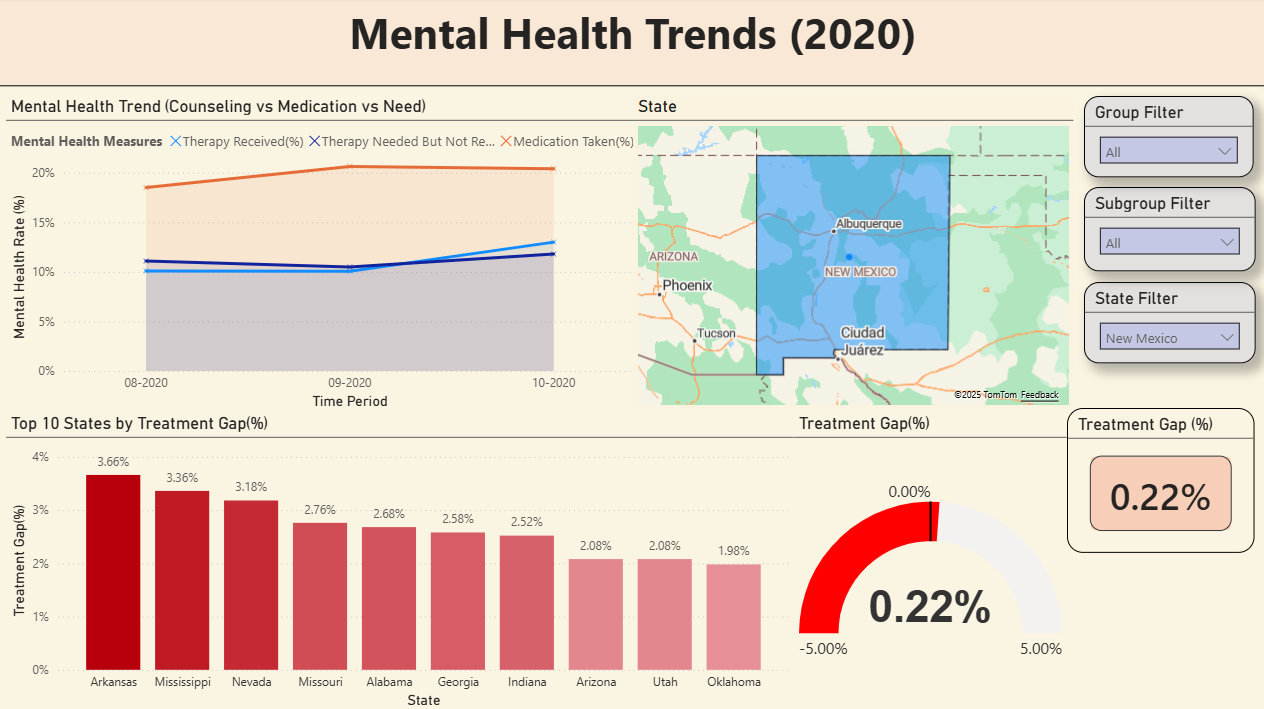

The dashboard page shown, as its layout file describes it:
{"tool":"powerbi","page":{"name":"Page 1","canvas":[1280,720],"ordinal":0},"visuals":[{"type":"lineChart","title":"Mental Health Trend (Counseling vs Medication vs Need)","fields":{"Category":["Calendar.YearMonth"],"Y":["Mental_Health_Care_in_the_Last_4_Weeks.TherapyReceived%","Mental_Health_Care_in_the_Last_4_Weeks.TherapyNeededButNotReceived%","Mental_Health_Care_in_the_Last_4_Weeks.MedicationTaken%"]},"box":[10.5,99.9,629.5,319.4],"z":0},{"type":"slicer","title":"State Filter","fields":{"Values":["Mental_Health_Care_in_the_Last_4_Weeks.State"]},"box":[1094.2,286.9,173.1,82.5],"z":1000},{"type":"slicer","title":"Group Filter","fields":{"Values":["Mental_Health_Care_in_the_Last_4_Weeks.Group"]},"box":[1094.2,99.9,170.7,82.5],"z":2000},{"type":"slicer","title":"Subgroup Filter","fields":{"Values":["Mental_Health_Care_in_the_Last_4_Weeks.Subgroup"]},"box":[1094.2,191.7,173.1,84.8],"z":3000},{"type":"textbox","box":[0,0,1280,89.7],"z":4000},{"type":"azureMap","fields":{"Category":["Mental_Health_Care_in_the_Last_4_Weeks.State"]},"box":[640,99.9,443.7,314.8],"z":5000},{"type":"cardVisual","title":"Treatment Gap (%)","fields":{"Data":["Mental_Health_Care_in_the_Last_4_Weeks.Treatment Gap(%)"]},"box":[1077.9,414.7,189.3,146.4],"z":6000},{"type":"clusteredColumnChart","title":"Top 10 States by Treatment Gap(%)","fields":{"Category":["Mental_Health_Care_in_the_Last_4_Weeks.State"],"Y":["Mental_Health_Care_in_the_Last_4_Weeks.Treatment Gap(%)"]},"box":[8.1,419.3,794.5,300.8],"z":7000},{"type":"gauge","fields":{"Y":["Mental_Health_Care_in_the_Last_4_Weeks.Treatment Gap(%)"]},"box":[802.3,419.3,275.1,285.2],"z":8000}]}

Visuals, with their boxes in screenshot pixels (x1, y1, x2, y2), scaled from the page's 1280x720 canvas onto the 1264x709 screenshot:
"Mental Health Trend (Counseling vs Medication vs Need)" lineChart: 10:98:632:413
"State Filter" slicer: 1081:283:1251:364
"Group Filter" slicer: 1081:98:1249:180
"Subgroup Filter" slicer: 1081:189:1251:272
textbox: 0:0:1263:88
azureMap - Mental_Health_Care_in_the_Last_4_Weeks.State: 632:98:1070:408
"Treatment Gap (%)" cardVisual: 1064:408:1251:553
"Top 10 States by Treatment Gap(%)" clusteredColumnChart: 8:413:793:708
gauge - Mental_Health_Care_in_the_Last_4_Weeks.Treatment Gap(%): 792:413:1064:694
